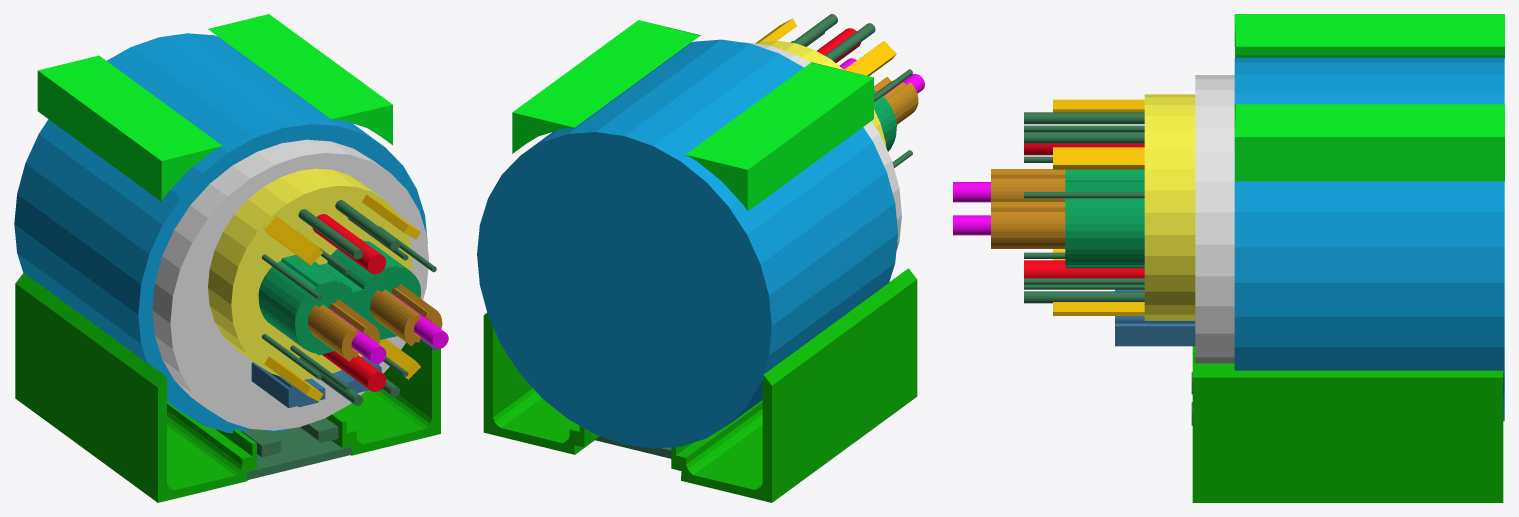
Rendered from lhc.gltf.
3 views of the same model, side by side, from view 1: azimuth 30°, elevation 25°; view 2: azimuth 150°, elevation 25°; view 3: azimuth 270°, elevation 25° (orthographic). The views are drawn at different scales.
Parts seen in each view (by area): view 1: Vessel/VacumVessel, Outer/BottomSupportStructure, Vessel/Heat, Outer/TopTargetAligment, Vessel/ColdMass, LHC/NonElectromagneticVessel, LHC/Superconductor, Inside/Magnet/Quadripole, Outer/BottomSupportDesk, Inside/HeatExchanger/Top, Inside/HeatExchanger/Main, Inside/SupportBed (+4 smaller); view 2: Vessel/VacumVessel, Outer/BottomSupportStructure, Outer/TopTargetAligment, Vessel/Heat, Inside/Magnet/Quadripole, Inside/HeatExchanger/Top, LHC/Superconductor, Vessel/ColdMass, LHC/NonElectromagneticVessel; view 3: Vessel/VacumVessel, Outer/BottomSupportStructure, Outer/TopTargetAligment, Vessel/ColdMass, Vessel/Heat, LHC/NonElectromagneticVessel, LHC/Superconductor, Inside/Magnet/Quadripole, Inside/HeatExchanger/Top, Inside/HeatExchanger/Main, Inside/SupportBed, Inside/HeatExchanger/Low (+2 smaller).
Part boxes in pixels (x1,y1,x2,y2): Vessel/VacumVessel: (14,33,427,433); Outer/BottomSupportStructure: (15,273,440,502); Vessel/Heat: (152,139,428,430); Outer/TopTargetAligment: (37,14,392,201); Vessel/ColdMass: (208,168,411,379); LHC/NonElectromagneticVessel: (258,239,420,355); LHC/Superconductor: (308,284,442,361); Inside/Magnet/Quadripole: (264,194,420,401); Outer/BottomSupportDesk: (247,427,352,479); Inside/HeatExchanger/Top: (298,200,399,405); Inside/HeatExchanger/Main: (312,214,386,391); Inside/SupportBed: (251,356,381,408); Vessel/VacumVessel: (477,39,897,448); Outer/BottomSupportStructure: (483,268,917,502); Outer/TopTargetAligment: (512,20,873,210); Vessel/Heat: (743,42,901,251); Inside/Magnet/Quadripole: (755,18,896,75); Inside/HeatExchanger/Top: (792,14,875,61); LHC/Superconductor: (843,67,918,124); Vessel/ColdMass: (756,40,886,147); LHC/NonElectromagneticVessel: (874,90,896,151); Vessel/VacumVessel: (1234,57,1504,421); Outer/BottomSupportStructure: (1192,346,1503,502); Outer/TopTargetAligment: (1234,14,1504,181); Vessel/ColdMass: (1144,94,1195,320); Vessel/Heat: (1195,75,1234,363); LHC/NonElectromagneticVessel: (1065,169,1144,268); LHC/Superconductor: (991,169,1065,248); Inside/Magnet/Quadripole: (1053,99,1144,315); Inside/HeatExchanger/Top: (1024,112,1144,303); Inside/HeatExchanger/Main: (1024,143,1144,278); Inside/SupportBed: (1115,289,1195,346); Inside/HeatExchanger/Low: (1024,125,1144,289).
Bounding box in the file's own units: 2.7 × 2.9 × 4.09.
